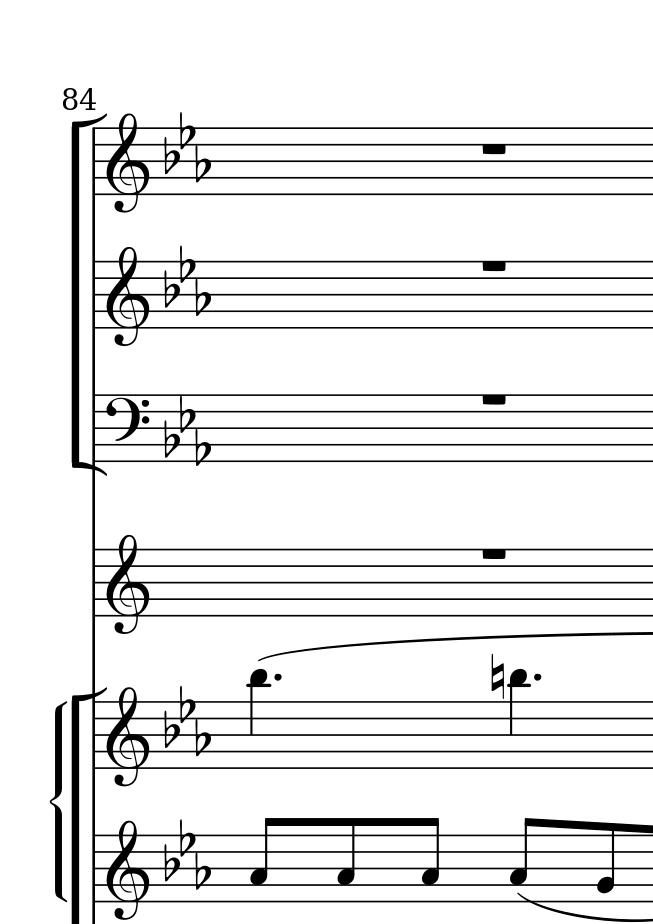4: (80, 84, 96, 111)
4_11: (247, 669, 271, 772), (508, 668, 531, 771)
8: (60, 83, 80, 114)
8_2: (596, 821, 619, 905)
8_3: (248, 816, 280, 904), (510, 816, 540, 906), (334, 816, 359, 905), (419, 815, 443, 903)
Brace: (48, 699, 67, 906)
Bracke: (69, 111, 107, 482)
E_F: (162, 816, 213, 893), (161, 685, 211, 759), (162, 394, 212, 466), (164, 242, 212, 315), (163, 112, 211, 184)
Fclef: (106, 393, 150, 464)
Gclef: (104, 817, 153, 924), (105, 685, 149, 795), (107, 108, 152, 215), (105, 533, 152, 635), (105, 244, 151, 347)
Natural: (488, 654, 505, 700)
Rests1: (478, 544, 510, 563), (479, 389, 510, 408), (478, 258, 510, 274), (479, 141, 509, 158)
Single_barline: (85, 394, 105, 461), (88, 702, 106, 769), (86, 262, 103, 327), (87, 548, 102, 617), (88, 836, 103, 902), (88, 129, 103, 194)
dot: (272, 671, 284, 684), (531, 672, 543, 684)
